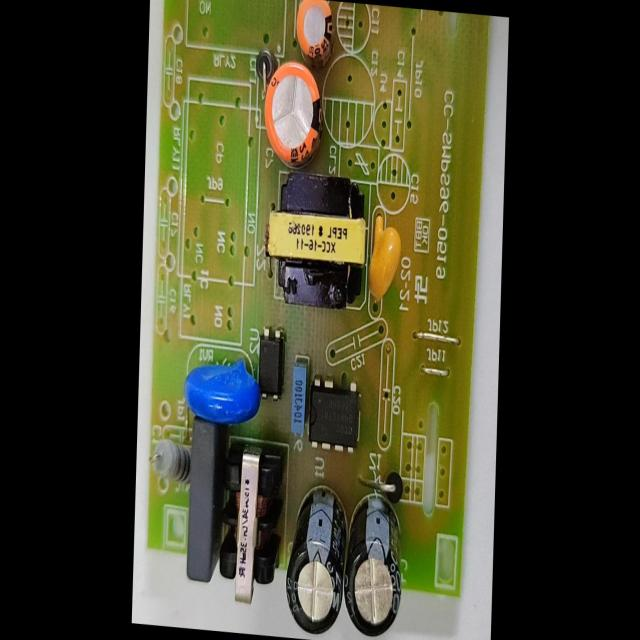Cap1: (260, 55, 327, 170)
Cap2: (292, 0, 337, 64)
Cap3: (282, 481, 350, 639)
Cap4: (343, 486, 406, 640)
MOSFET: (308, 372, 363, 459)
Mov: (180, 350, 263, 430)
Resistor: (148, 432, 192, 488)
Transformer: (262, 166, 371, 318), (218, 432, 289, 616)
